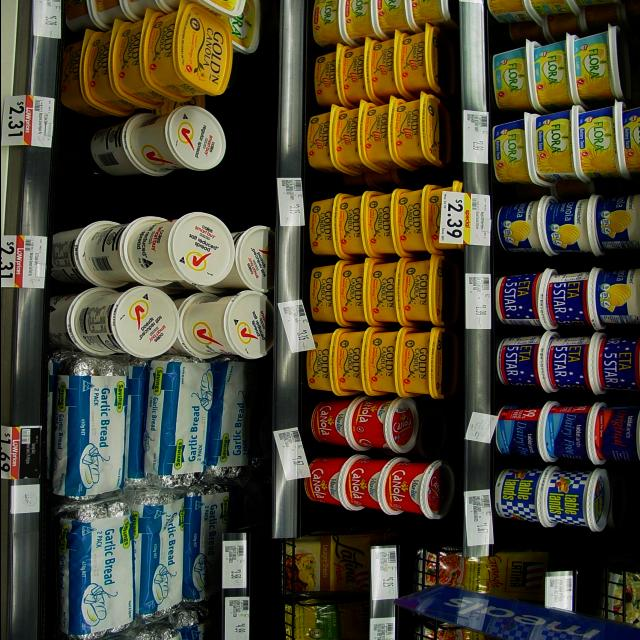empty_space: (50, 176, 274, 212), (53, 119, 93, 169), (604, 478, 640, 531), (413, 403, 446, 453)
